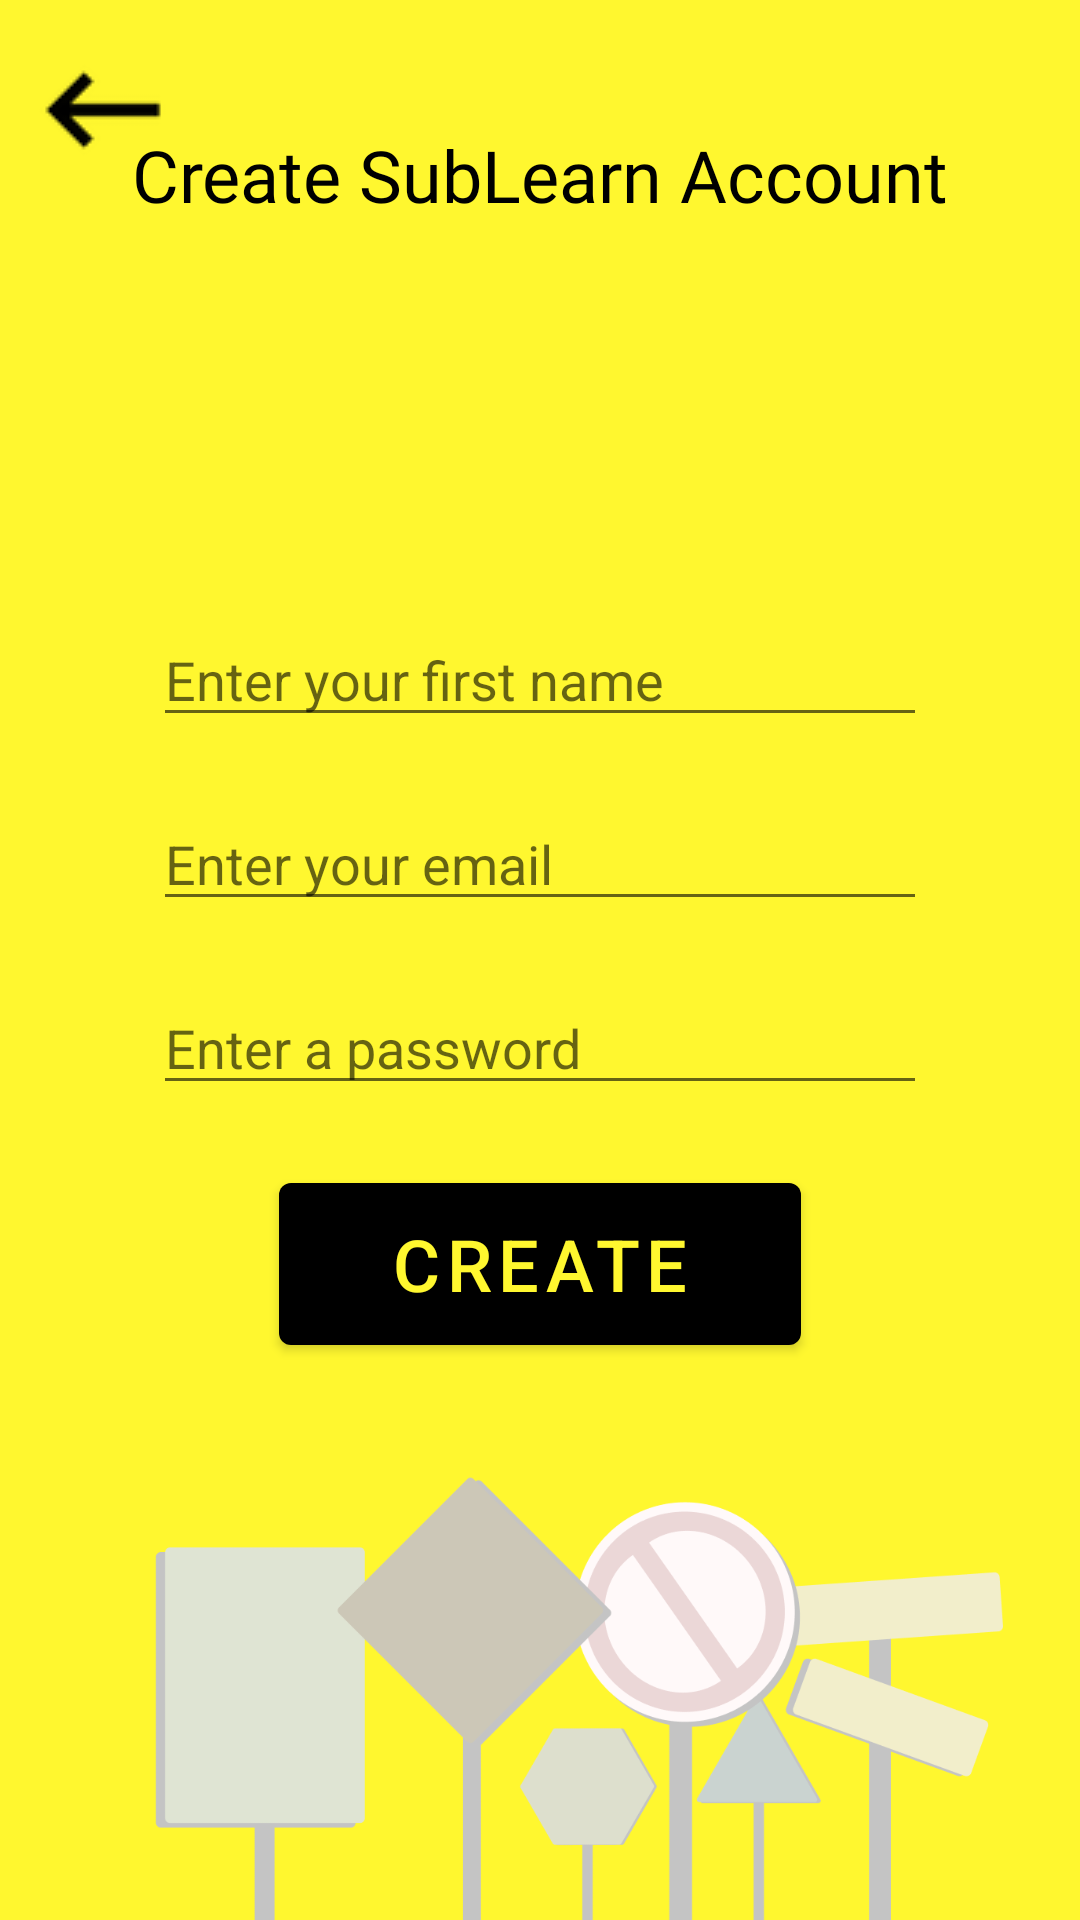

Icons on this 1080 × 1920 Android screen, each with its box as (x1, y1, x2, y2):
back: (45, 71, 161, 149)
